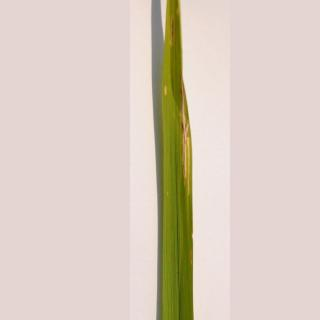Hawar-Daun: (169, 81, 201, 219), (167, 5, 183, 53), (183, 220, 196, 276)
